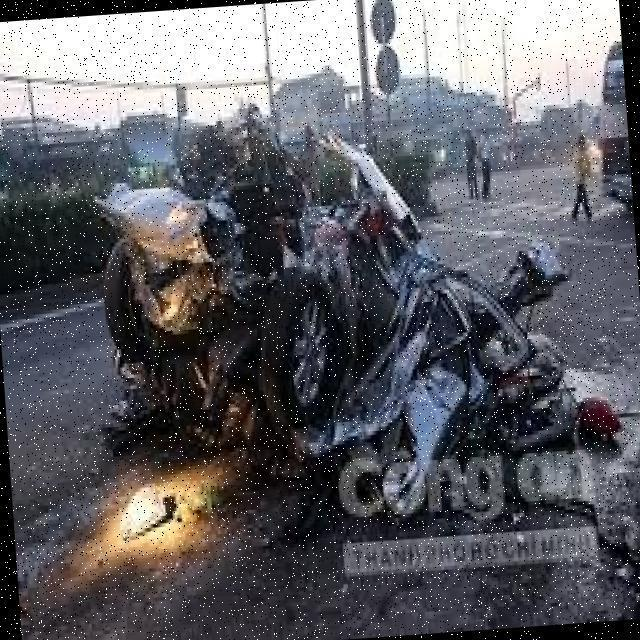accident: (58, 16, 616, 546)
